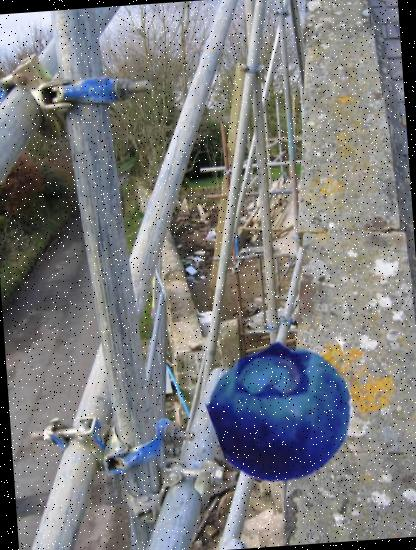Huckleberry: (207, 338, 356, 487)
